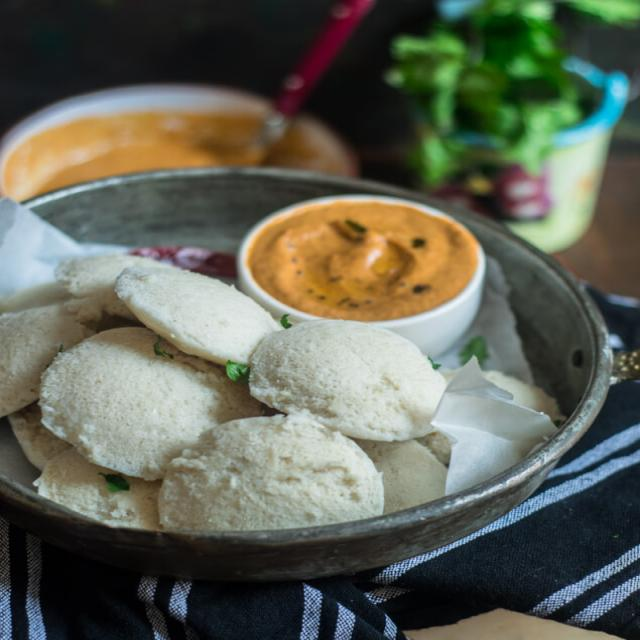idli: (44, 326, 269, 471), (156, 418, 383, 548), (255, 316, 444, 438), (116, 260, 289, 377), (0, 295, 101, 416), (54, 255, 210, 322)
